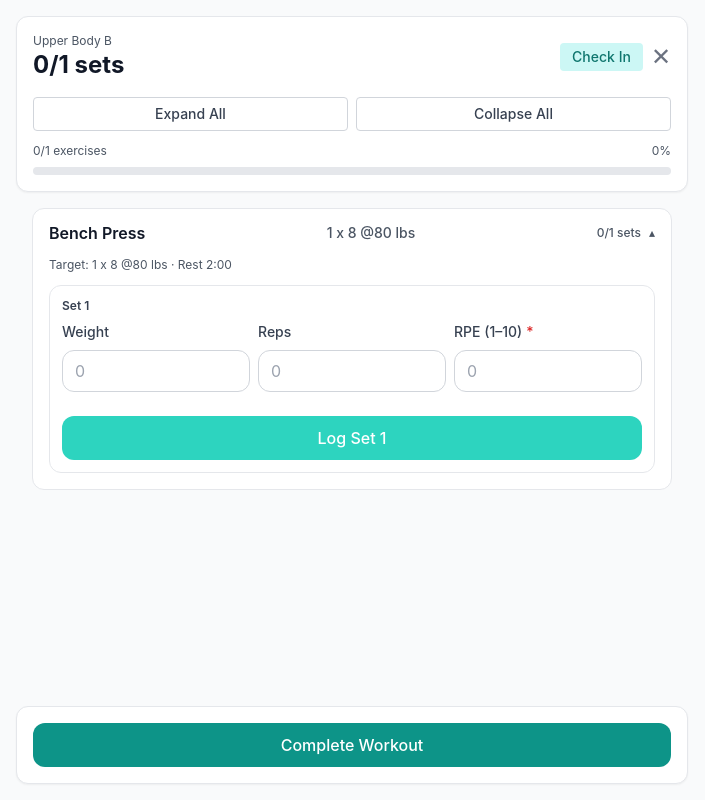
WorkoutTrackingPage › toggles a section open and closed on header click
Check: the text "Set 1" is shown, box [62,298,89,313]
Click the button "Bench Press 1 x 8 @80 lbs 0/1 sets ▴": [352, 233] box [33,209,671,257]
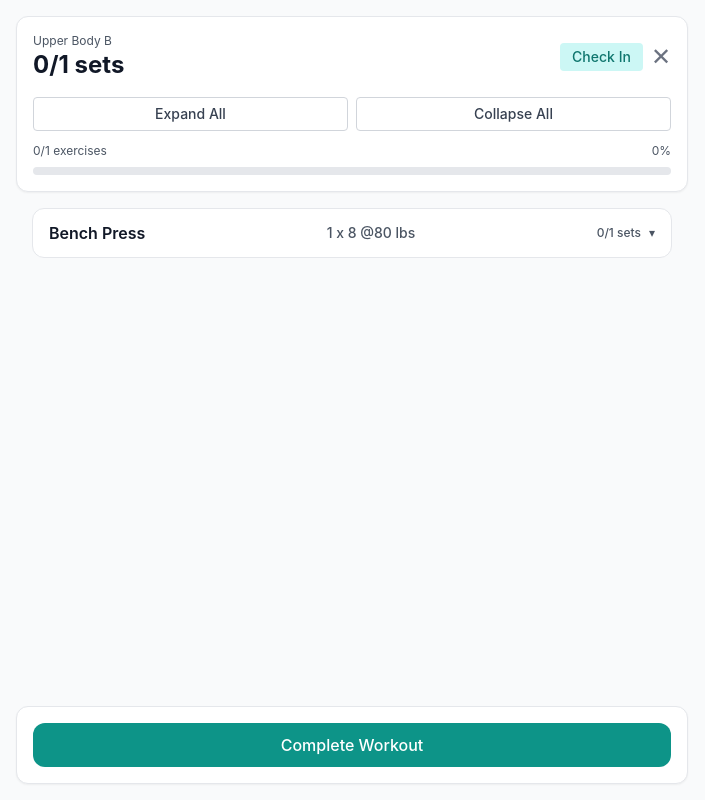
Check: the text "Set 1" is gone
